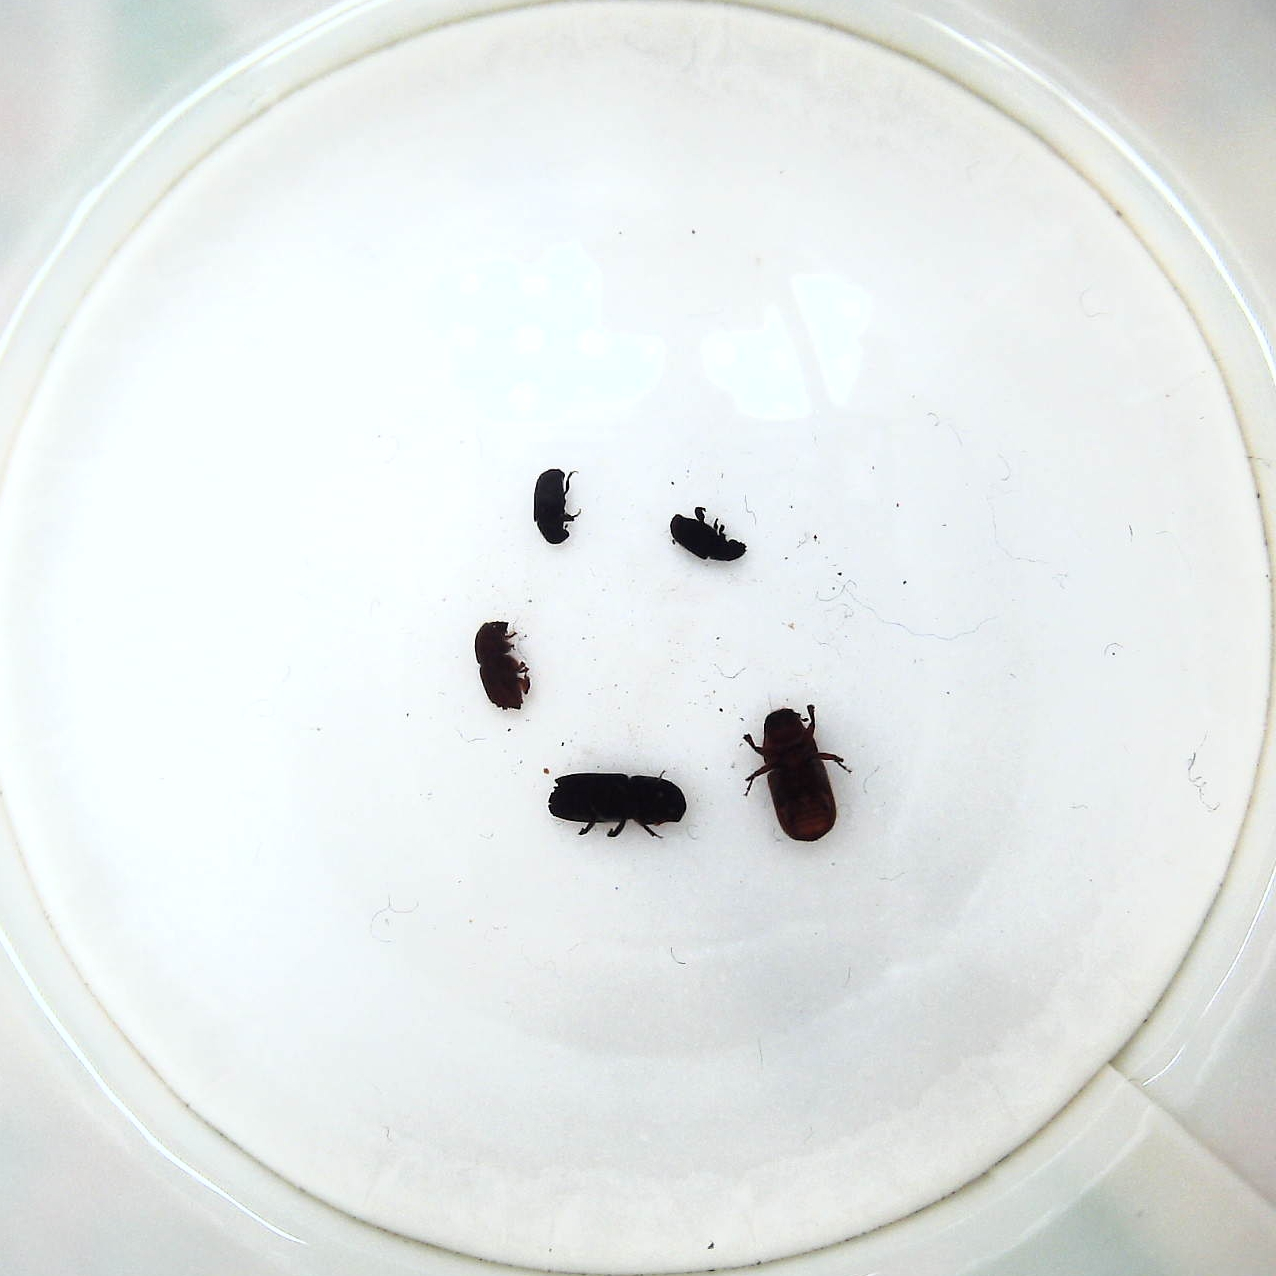Boerner: (542, 771, 693, 846)
Leconte: (744, 700, 854, 846)
armandi: (527, 462, 583, 549)
coleoptera: (666, 498, 753, 566)
linnaeus: (471, 612, 538, 724)
